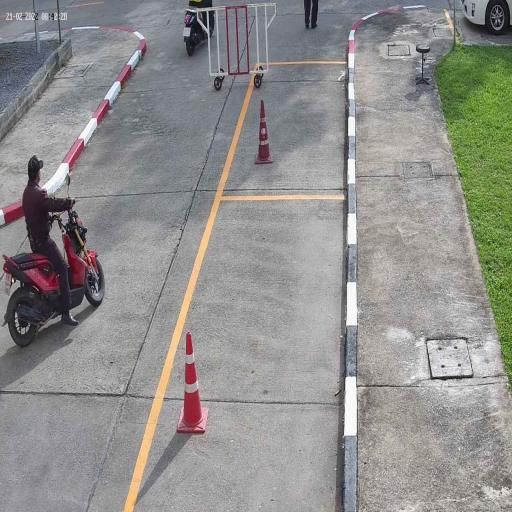motorcycle: (2, 211, 106, 349), (181, 4, 217, 57)
